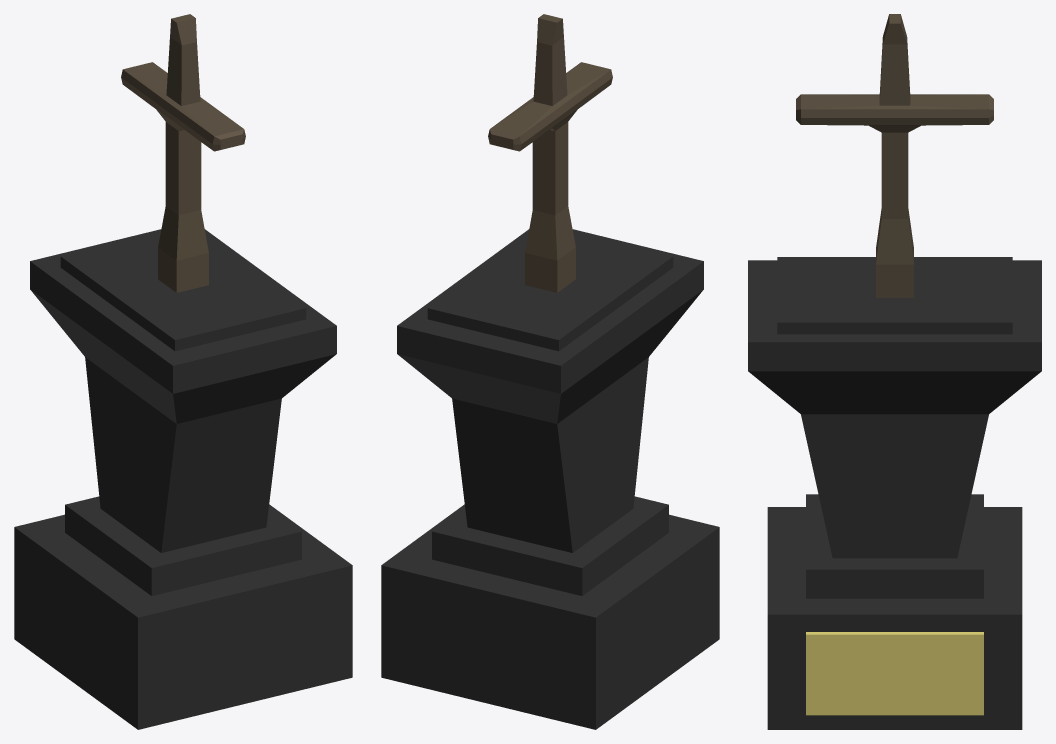
File: statue1.glb
3 renders of one model, left to right at view 1: azimuth 30°, elevation 25°; view 2: azimuth 150°, elevation 25°; view 3: azimuth 270°, elevation 25°, orthographic. The views are drawn at different scales.
Parts seen in each view (by area): view 1: statue, cross; view 2: statue, cross; view 3: statue, plaque, cross.
Part boxes in pixels (x1,y1,x2,y2): statue: (14, 229, 352, 729); cross: (121, 14, 245, 292); statue: (381, 229, 719, 729); cross: (488, 14, 612, 292); statue: (748, 257, 1041, 729); plaque: (806, 632, 983, 715); cross: (796, 14, 993, 297).
Size of the model in its own units: 2.05 by 5.7 by 2.31.
